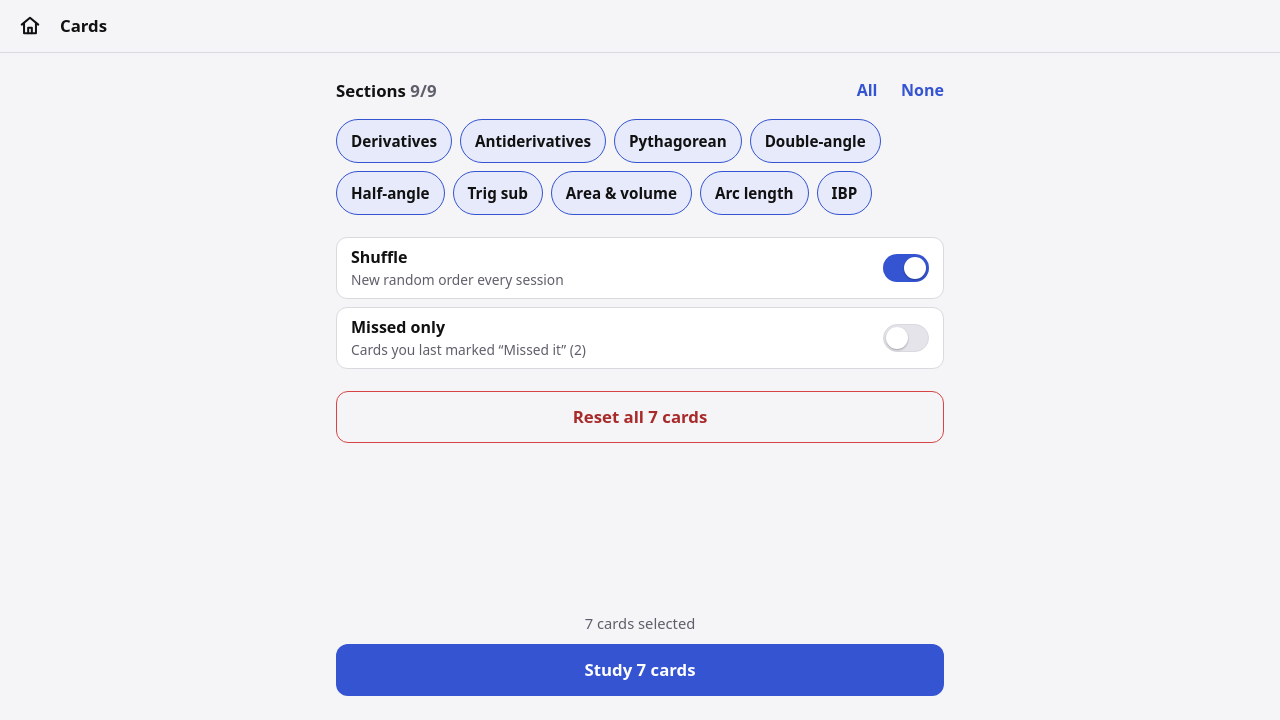
Test: reset › ignores a confirm tap within the guard window, and Cancel keeps everything
This screenshot has width=1280, height=720.
Later steps or results of the test are not shown.
Click the button "Reset all 7 cards" at [640, 417], box [336,391,944,443]
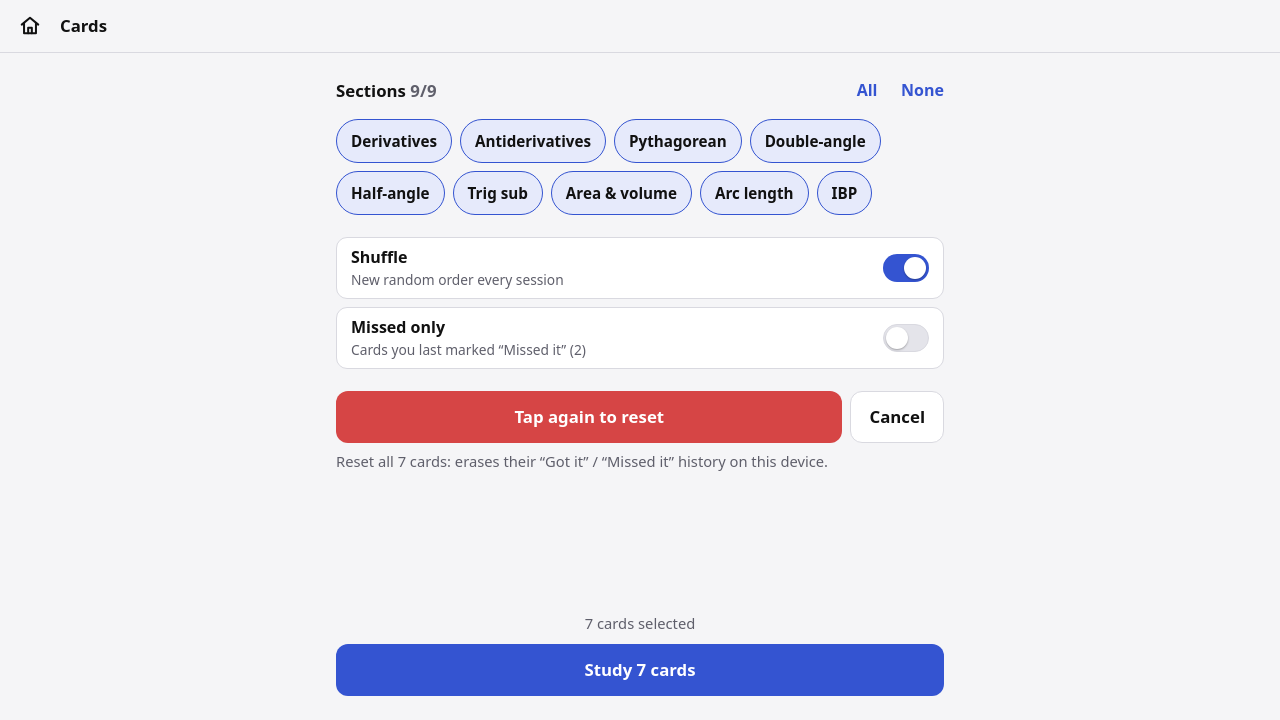
Click the button "Tap again to reset" at [589, 417], box [336,391,842,443]
Now the button "Tap again to reset" is shown, box [336,391,842,443]
